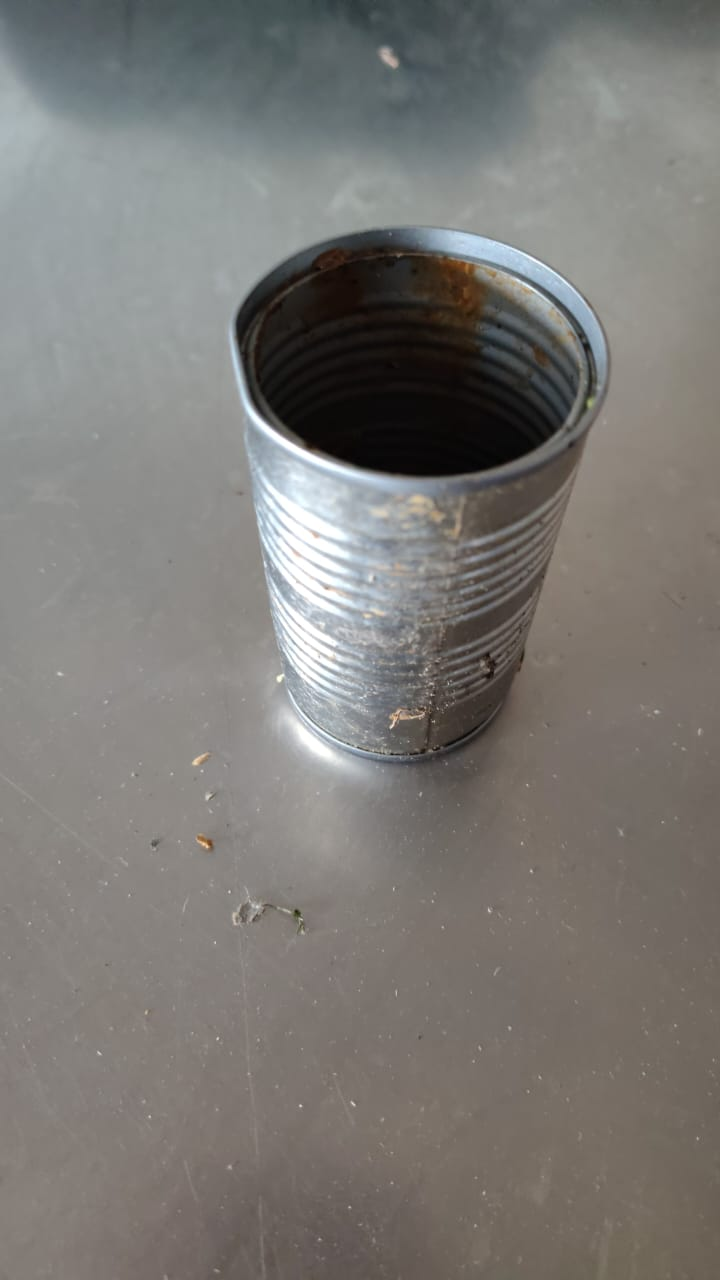Metal: (229, 227, 612, 762)
